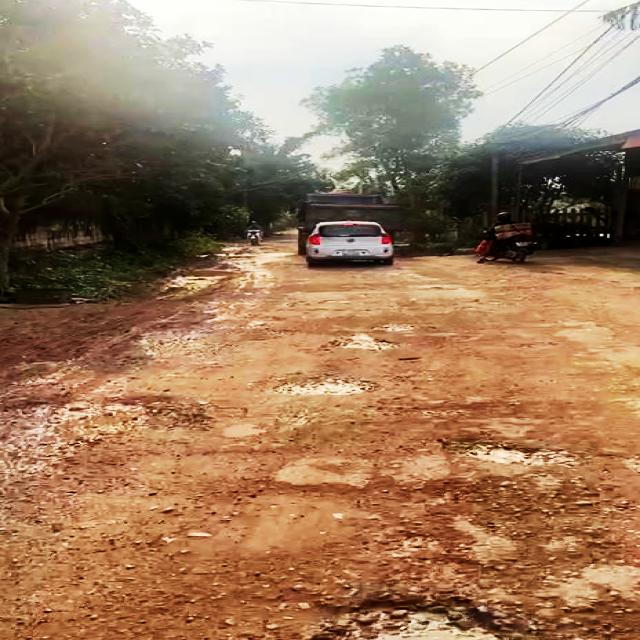pothole: (302, 586, 521, 640), (54, 393, 218, 444), (450, 437, 578, 469), (269, 374, 381, 400), (317, 332, 403, 352)
